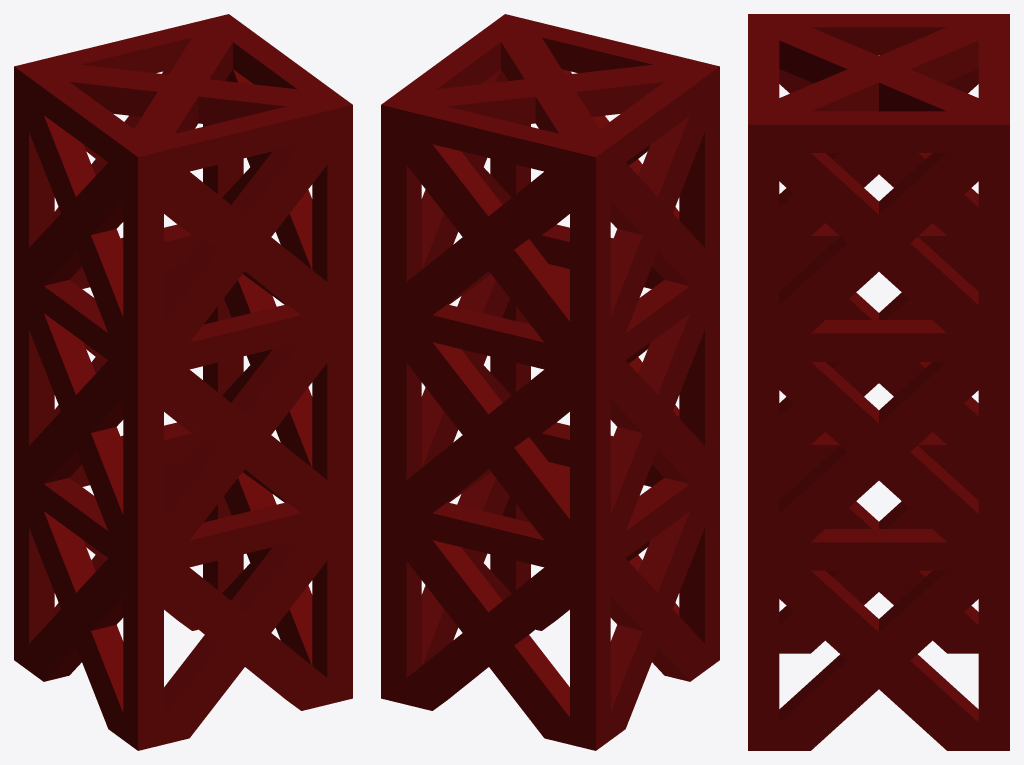
The model's file is Pylon.fbx.
3 renders of one model, left to right at view 1: azimuth 30°, elevation 25°; view 2: azimuth 150°, elevation 25°; view 3: azimuth 270°, elevation 25°, orthographic. The views are drawn at different scales.
Parts seen in each view (by area): view 1: Model; view 2: Model; view 3: Model.
Part boxes in pixels (x1,y1,x2,y2): Model: (14, 14, 352, 750); Model: (381, 14, 719, 750); Model: (748, 14, 1009, 750).
Size of the model in its own units: 66.75 by 176 by 66.75.
